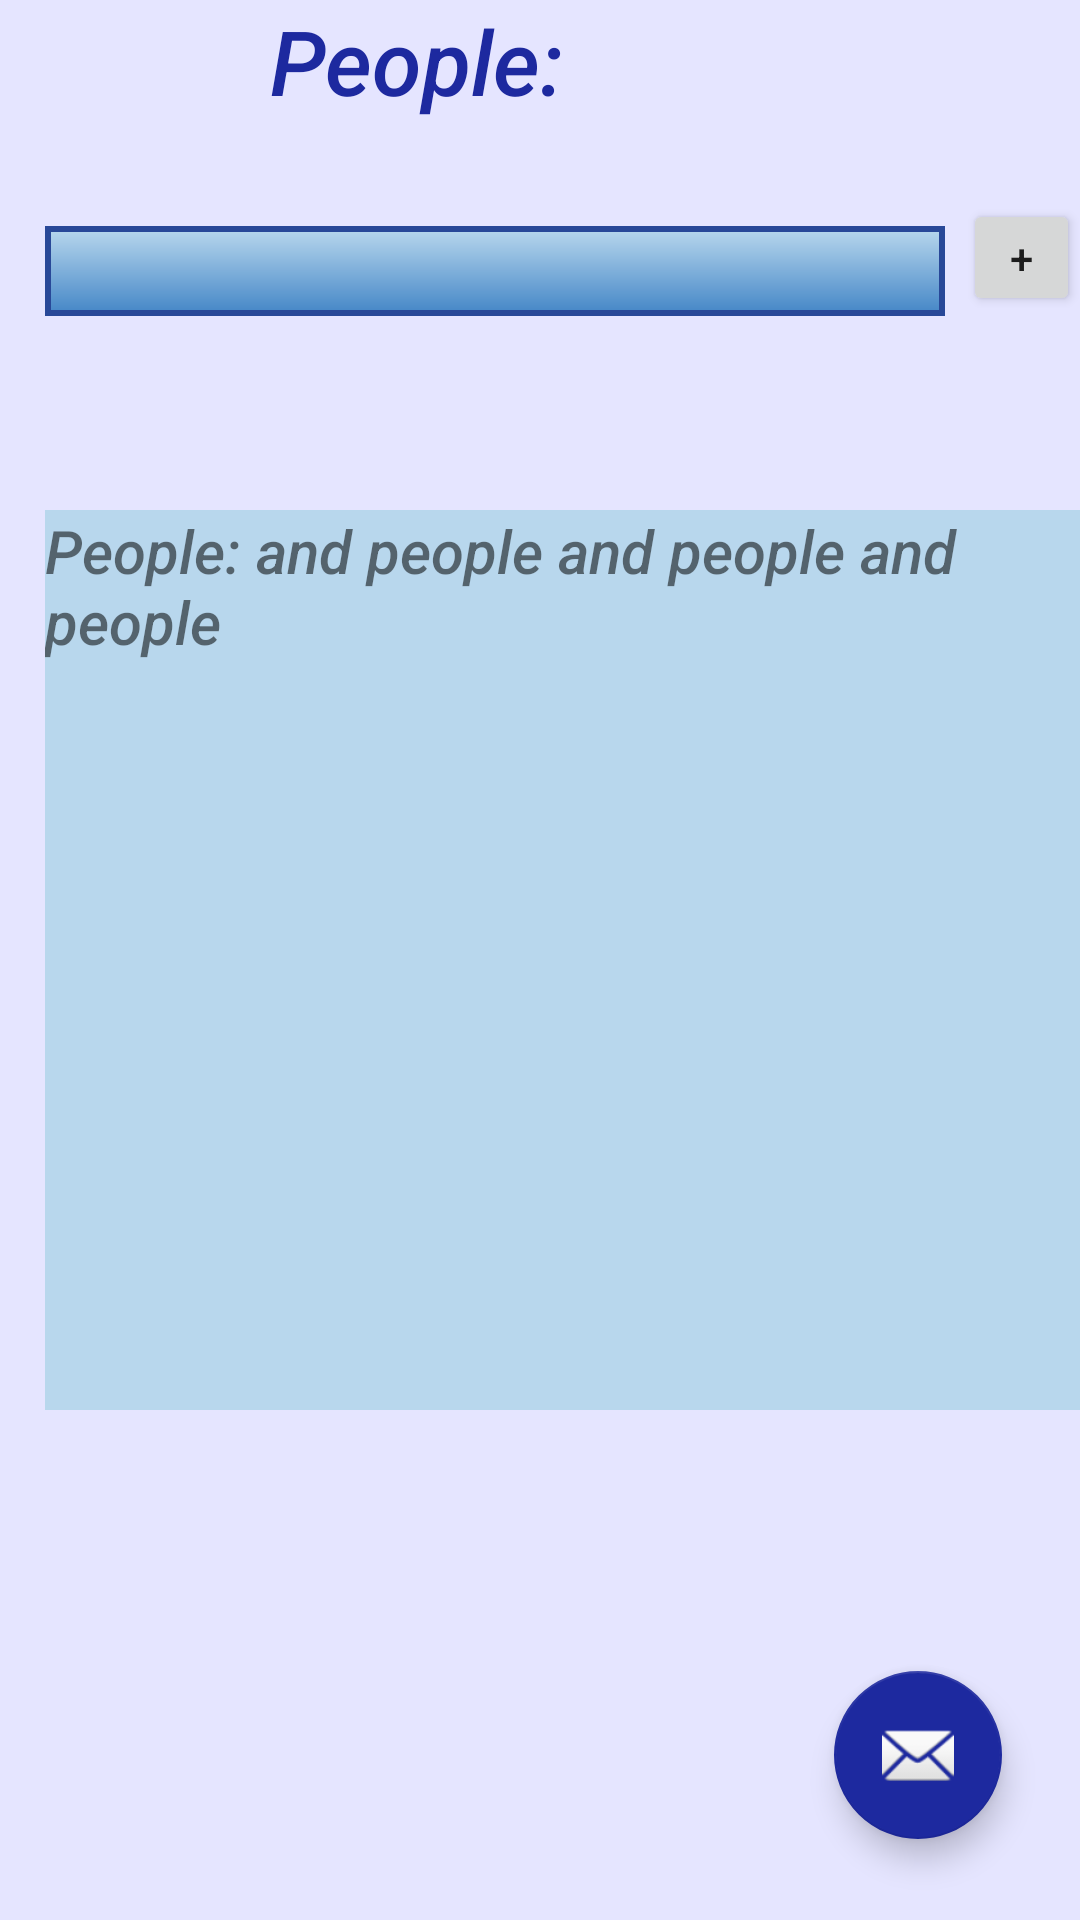

Screen size 1080×1920. Icon name, then its center in pixels as point (x, y):
email: point (918, 1755)
